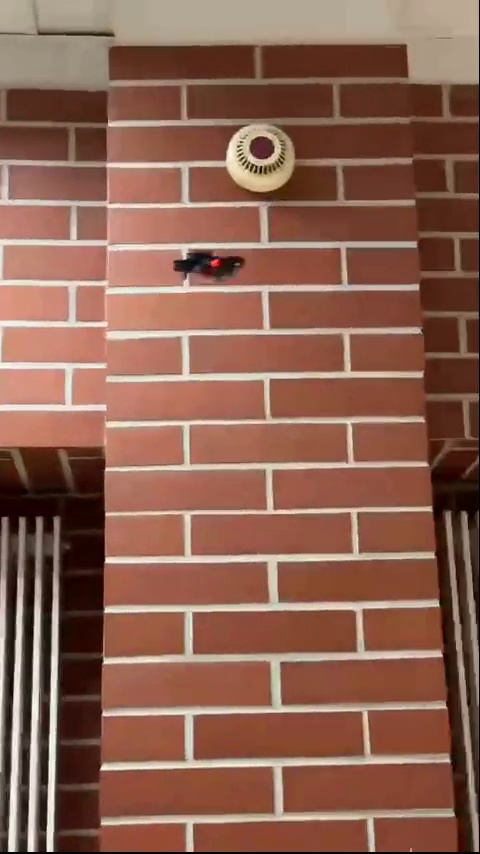drone: (173, 247, 247, 285)
